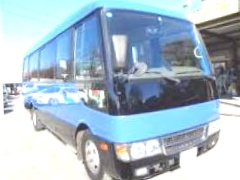bus: (18, 0, 224, 180)
